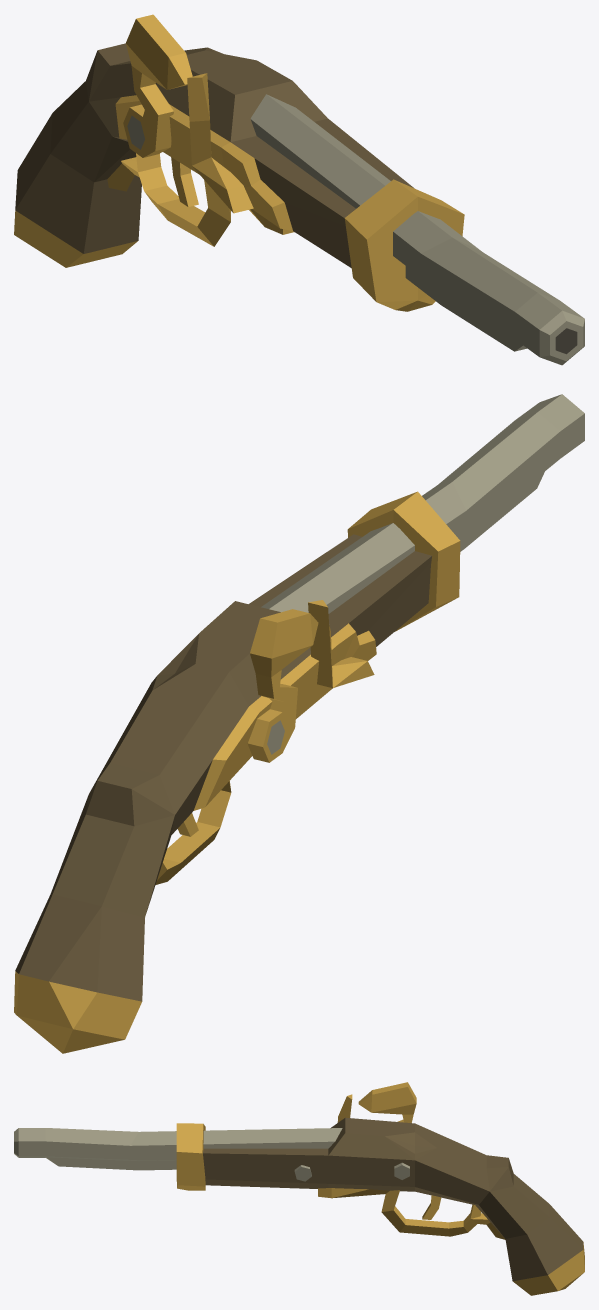
File: Pistol_1.fbx
The picture shows the model from 3 angles, top to bottom: view 1: azimuth 30°, elevation 25°; view 2: azimuth 150°, elevation 25°; view 3: azimuth 270°, elevation 25°; orthographic projection. The views are drawn at different scales.
Parts seen in each view (by area): view 1: Pistol_1; view 2: Pistol_1; view 3: Pistol_1.
Part boxes in pixels (x1,y1,x2,y2): Pistol_1: (14, 14, 584, 365); Pistol_1: (14, 394, 584, 1053); Pistol_1: (14, 1082, 584, 1295).
Size of the model in its own units: 8.37 by 20.09 by 55.36.
